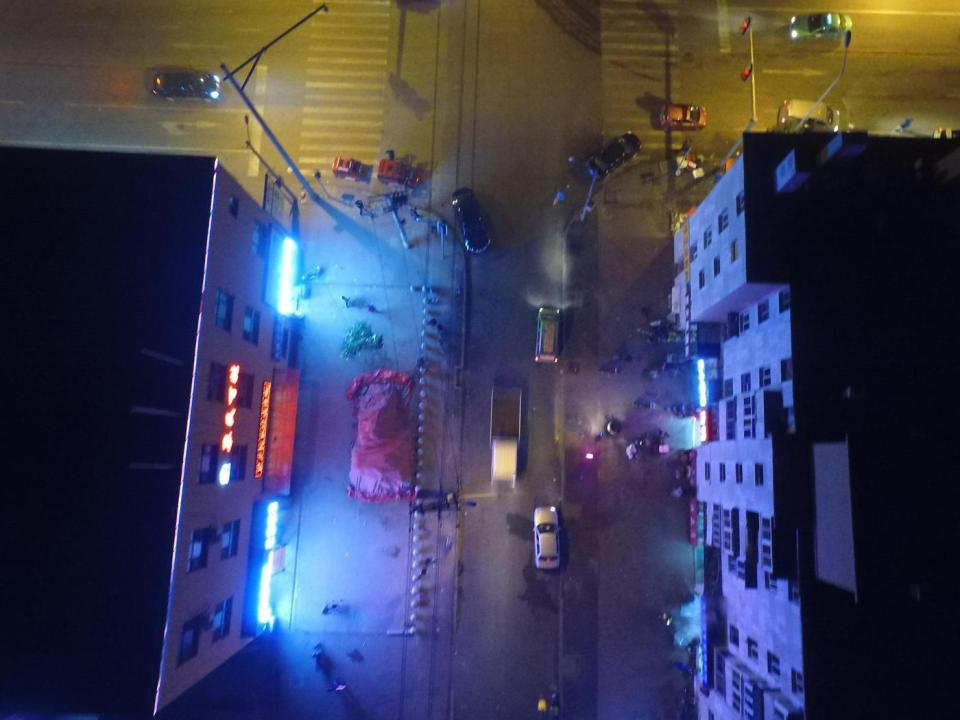car: (586, 132, 641, 180), (452, 188, 489, 252), (154, 72, 220, 103), (790, 12, 852, 40), (533, 506, 560, 569), (660, 103, 707, 132), (933, 126, 960, 152)
truck: (489, 387, 520, 488)
van: (777, 99, 839, 133), (534, 308, 560, 363)
